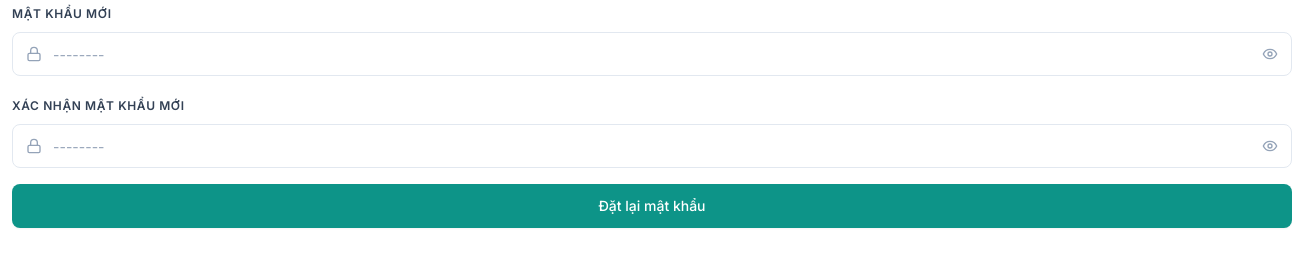
Scenario: ResetPasswordForm › displays validation error when submitting with empty fields
Click the button "Đặt lại mật khẩu": (652, 206) x1=12 y1=184 x2=1292 y2=228
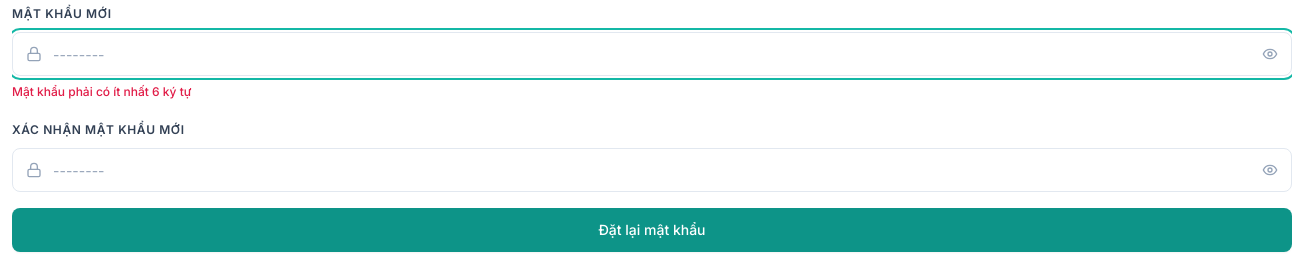
Check: the text "Mật khẩu phải có ít nhất 6 ký tự" is shown, box x1=12 y1=84 x2=191 y2=99
